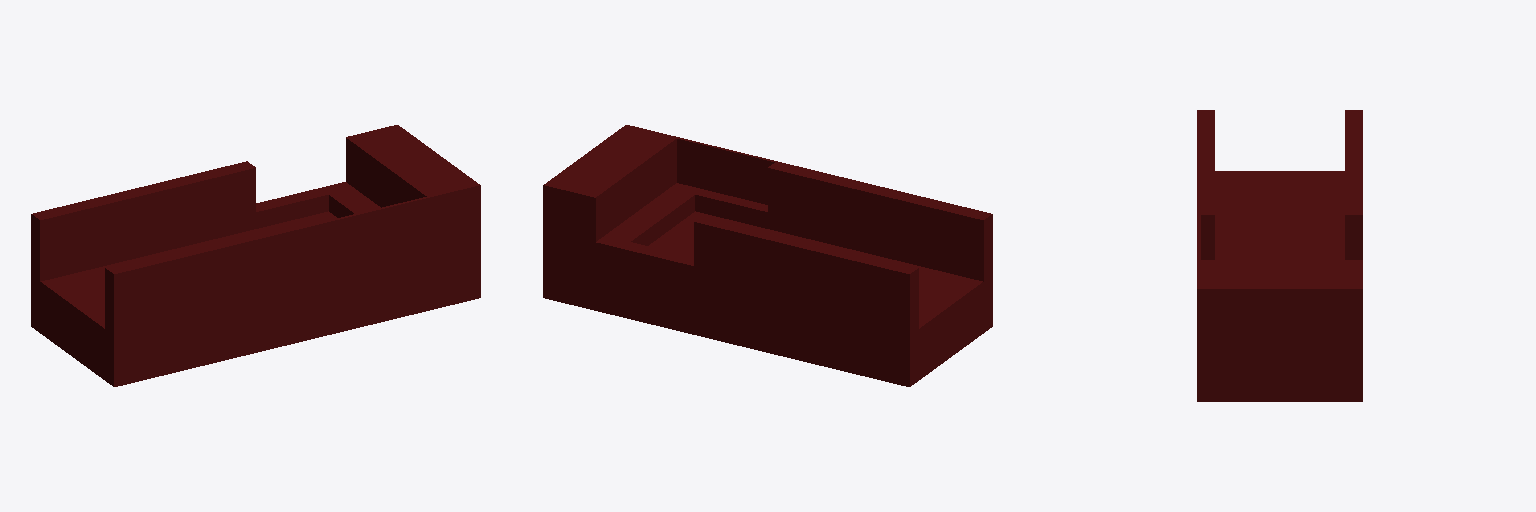
The model's file is CSGCombiner.obj.
The picture shows the model from 3 angles: view 1: azimuth 30°, elevation 25°; view 2: azimuth 150°, elevation 25°; view 3: azimuth 270°, elevation 25°; orthographic projection.
Visible parts, largest first — view 1: surface0; view 2: surface0; view 3: surface0.
Part boxes in pixels (x1,y1,x2,y2): surface0: (31,125,480,386); surface0: (543,125,992,386); surface0: (1197,110,1362,401).
Size of the model in its own units: 5.11 by 1.51 by 2.